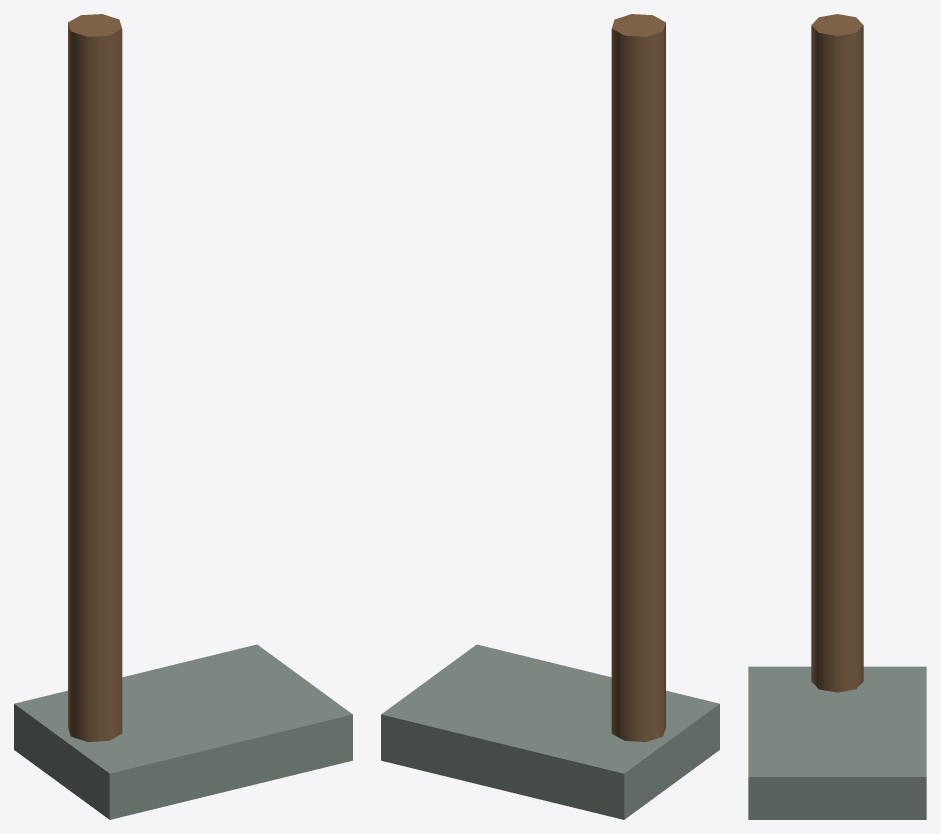
The model's file is tool-hoe.glb.
3 renders of one model, left to right at view 1: azimuth 30°, elevation 25°; view 2: azimuth 150°, elevation 25°; view 3: azimuth 270°, elevation 25°, orthographic. The views are drawn at different scales.
Visible parts, largest first — view 1: tool-hoe-visual; view 2: tool-hoe-visual; view 3: tool-hoe-visual.
Part boxes in pixels (<box>): tool-hoe-visual: <box>14,14,352,819</box>; tool-hoe-visual: <box>381,14,719,819</box>; tool-hoe-visual: <box>748,14,926,819</box>.
Size of the model in its own units: 0.22 by 0.65 by 0.15.
